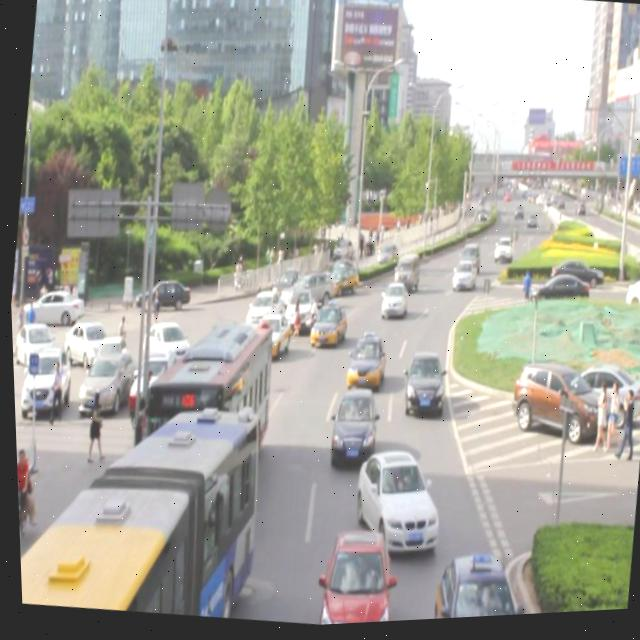car: (343, 447, 441, 560), (312, 524, 395, 628), (424, 552, 522, 623), (323, 387, 380, 470), (397, 350, 445, 421), (338, 332, 384, 396), (281, 270, 333, 318), (202, 320, 245, 378), (303, 296, 347, 351), (244, 312, 290, 363), (277, 282, 316, 335), (240, 290, 282, 337), (315, 259, 359, 302), (374, 283, 405, 323), (446, 262, 476, 295)
truck: (386, 252, 420, 299)
van: (11, 382, 264, 630), (126, 314, 276, 475)
